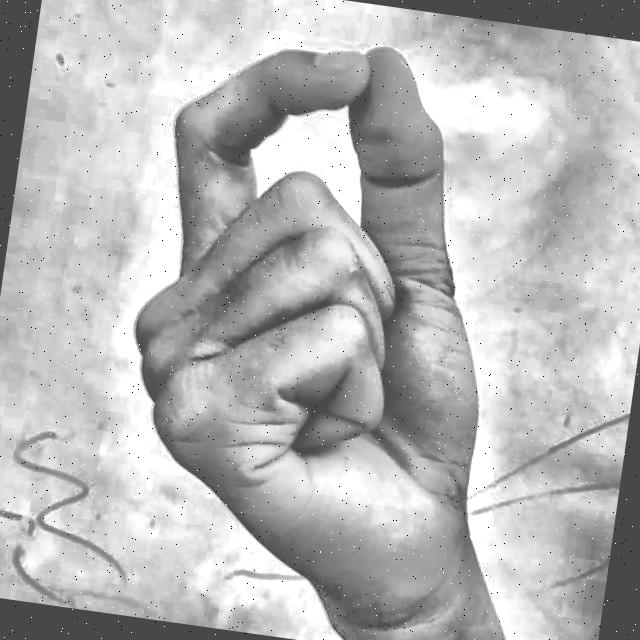Gha: (48, 0, 605, 640)
